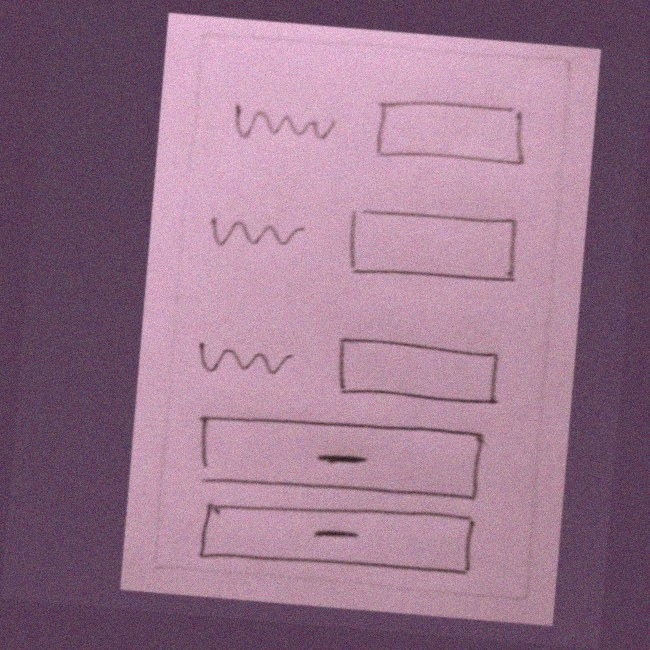button: (184, 404, 492, 511), (181, 489, 485, 590)
text: (221, 95, 344, 162), (187, 326, 302, 392), (200, 202, 313, 257)
text_input: (334, 190, 533, 301), (325, 326, 513, 420), (363, 89, 540, 178)
